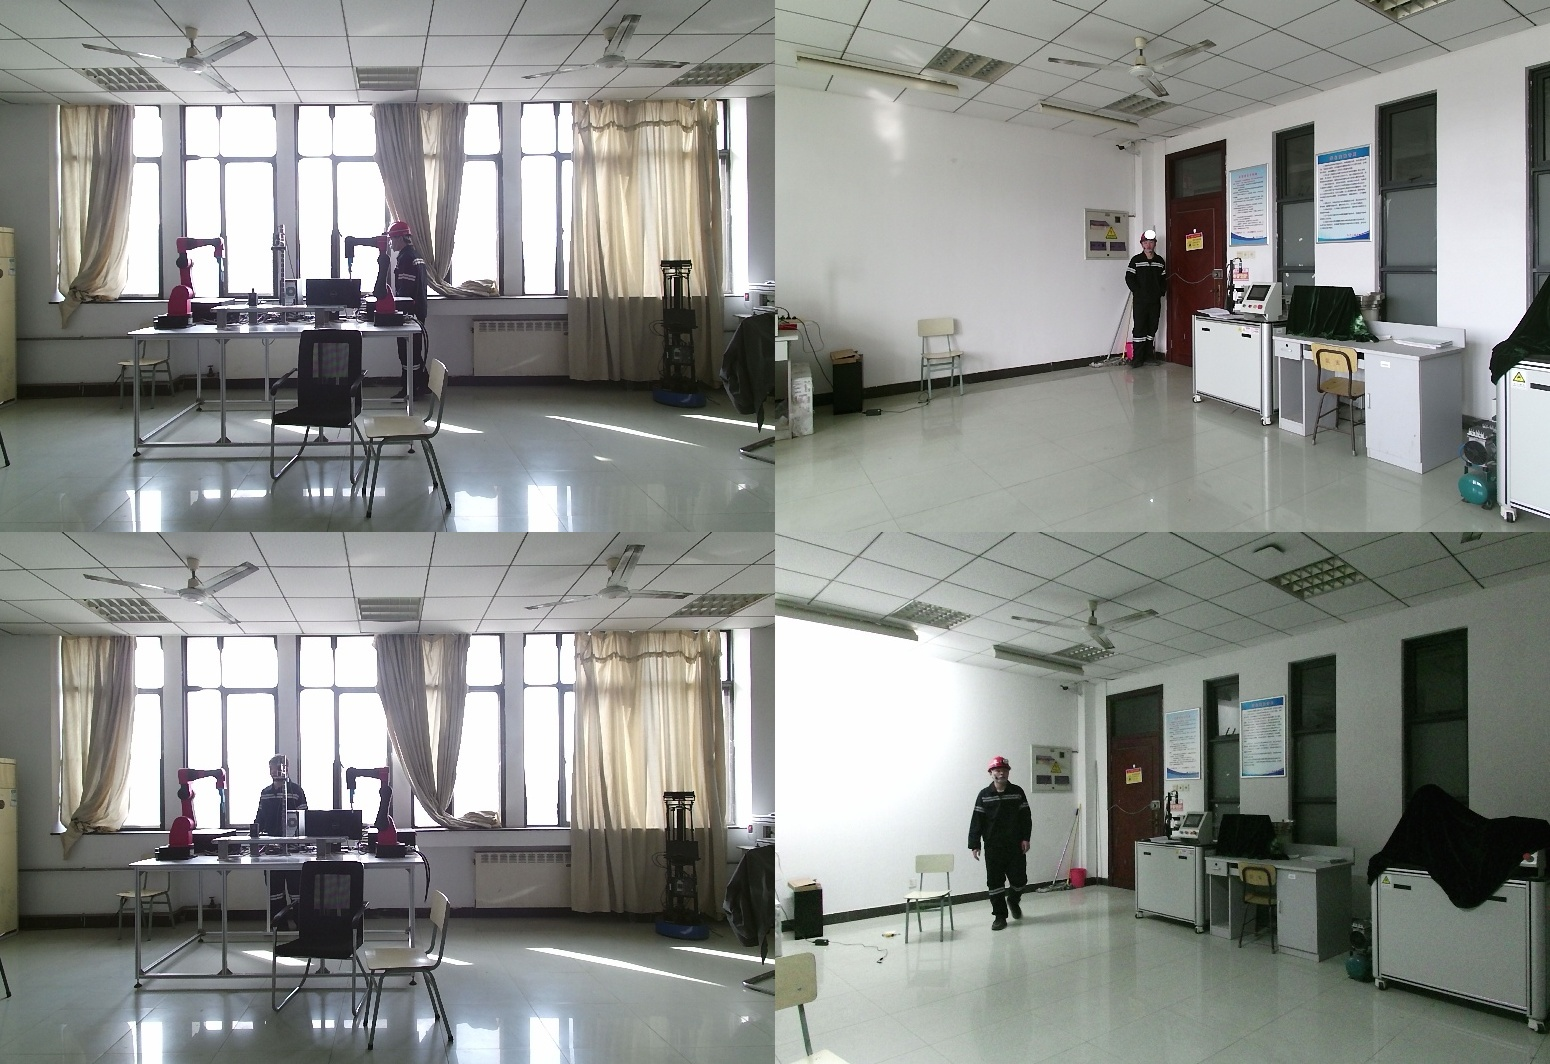person: (972, 759, 1037, 932), (255, 757, 319, 931), (383, 220, 428, 402), (1124, 234, 1168, 367)
